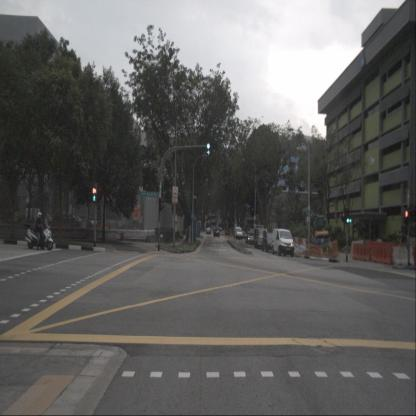movable_object-barrier: (392, 246, 415, 268), (371, 241, 392, 265), (352, 242, 372, 262), (350, 240, 365, 258), (331, 239, 339, 257), (301, 237, 306, 246), (290, 236, 294, 245), (298, 237, 302, 245), (294, 237, 298, 245)
vehicle-car: (272, 228, 294, 258), (262, 232, 276, 252), (245, 232, 256, 244), (234, 226, 243, 240), (213, 228, 221, 237), (240, 230, 247, 240), (206, 227, 211, 235), (225, 229, 230, 236)
vehicle-motorcycle: (25, 212, 54, 250)
vehicle-truck: (253, 225, 268, 249)
